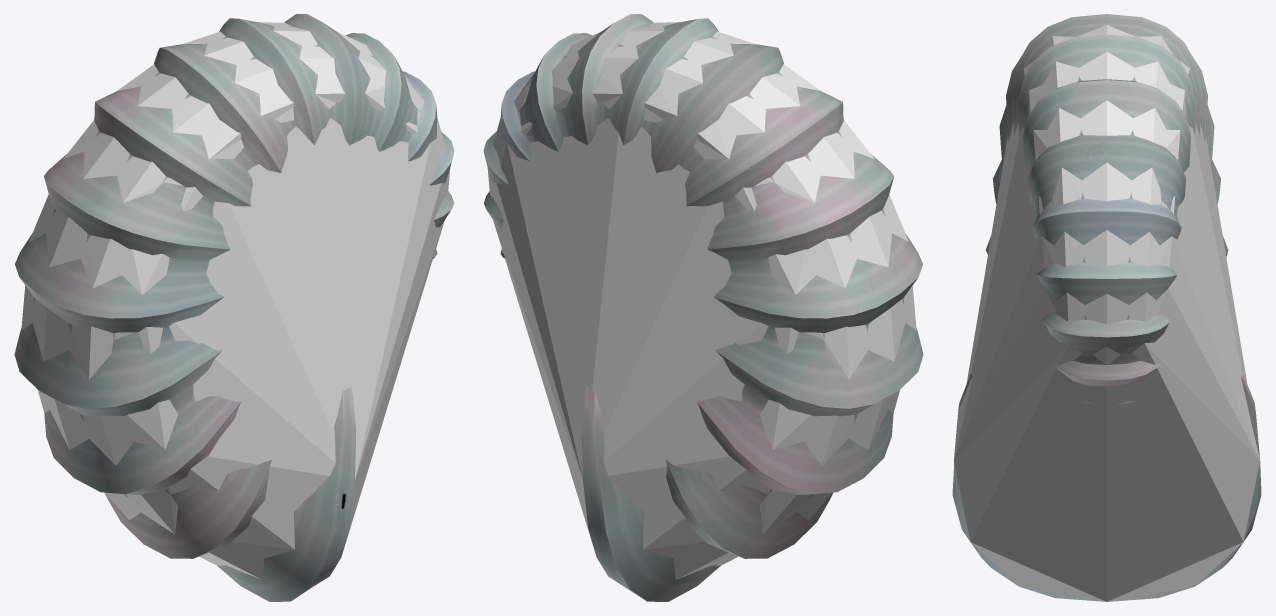
Rendered from shell_2.glb.
The picture shows the model from 3 angles, left to right: view 1: azimuth 30°, elevation 25°; view 2: azimuth 150°, elevation 25°; view 3: azimuth 270°, elevation 25°; orthographic projection. The views are drawn at different scales.
Visible parts, largest first — view 1: shell_2_hull_col, shell_2; view 2: shell_2_hull_col, shell_2; view 3: shell_2_hull_col, shell_2.
Boxes of the visible parts, x1,y1,x2,y2 form: shell_2_hull_col: (21, 22, 450, 579); shell_2: (14, 14, 454, 601); shell_2_hull_col: (487, 22, 916, 579); shell_2: (483, 14, 923, 601); shell_2_hull_col: (954, 25, 1259, 601); shell_2: (952, 14, 1261, 601).
Bounding box in the file's own units: 13.38 × 17.5 × 8.62.
Materials: 2 (2 with a texture image).
